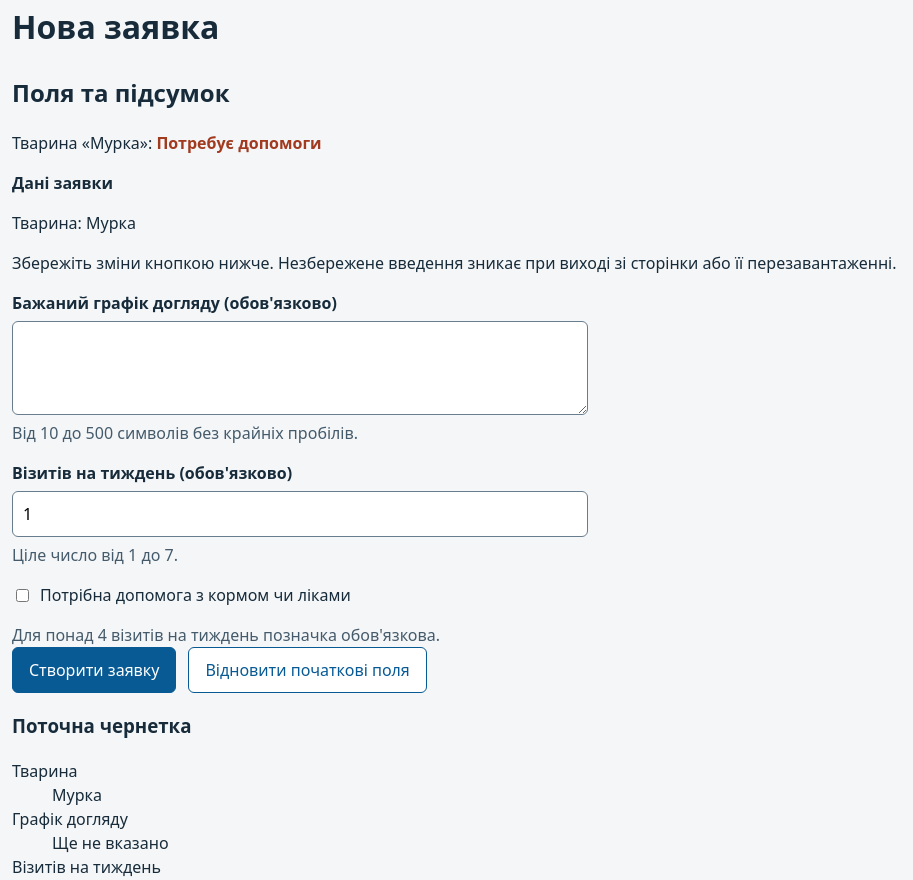
Test case: не зберігає порожній графік та пояснює помилку
Click the button "Створити заявку" at (94, 670), box [12,647,176,693]
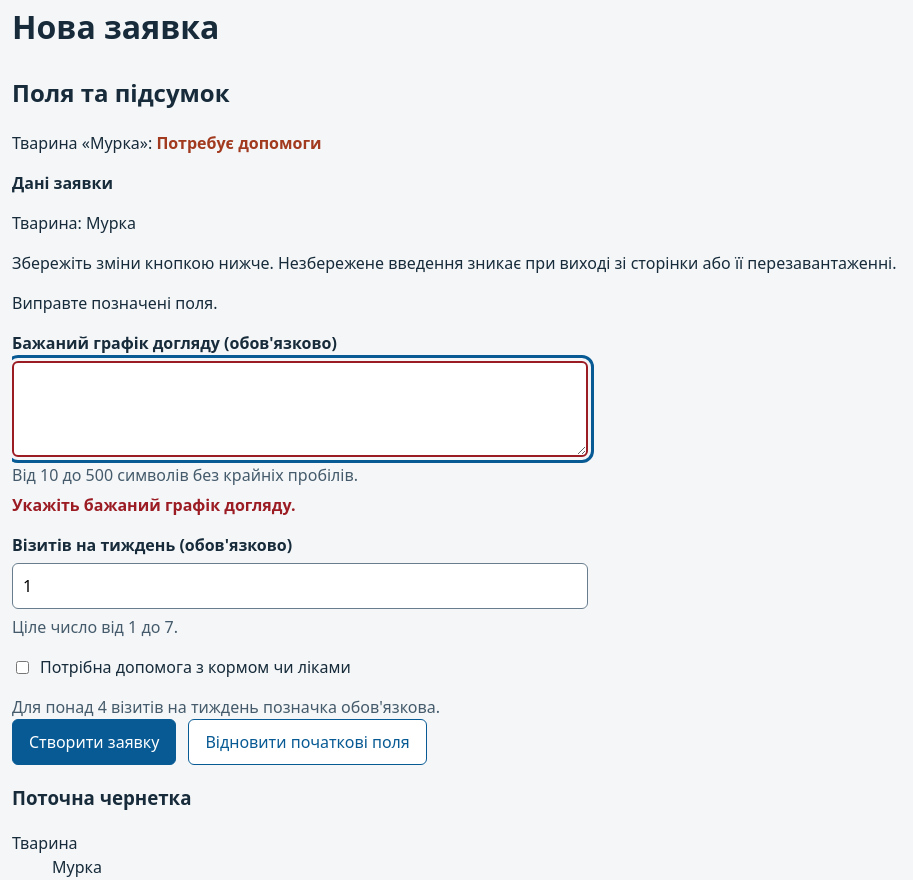
Check: the text "Укажіть бажаний графік догляду." is shown, box [12,494,296,516]
